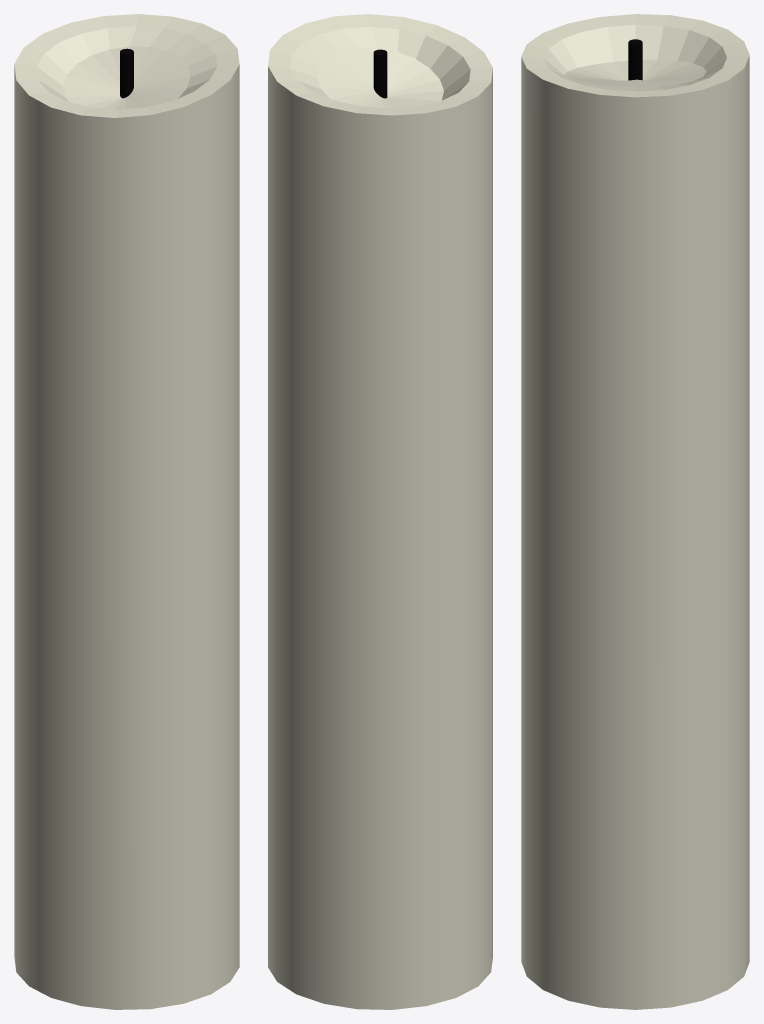
File: Candle_High.fbx
The picture shows the model from 3 angles, left to right: view 1: azimuth 30°, elevation 25°; view 2: azimuth 150°, elevation 25°; view 3: azimuth 270°, elevation 25°; orthographic projection.
Visible parts, largest first — view 1: Candle_High; view 2: Candle_High; view 3: Candle_High.
Part boxes in pixels (bbox=[...]): Candle_High: bbox=[14, 14, 239, 1009]; Candle_High: bbox=[268, 14, 492, 1009]; Candle_High: bbox=[521, 14, 749, 1009].
Bounding box in the file's own units: 4.62 × 20.52 × 4.62.
